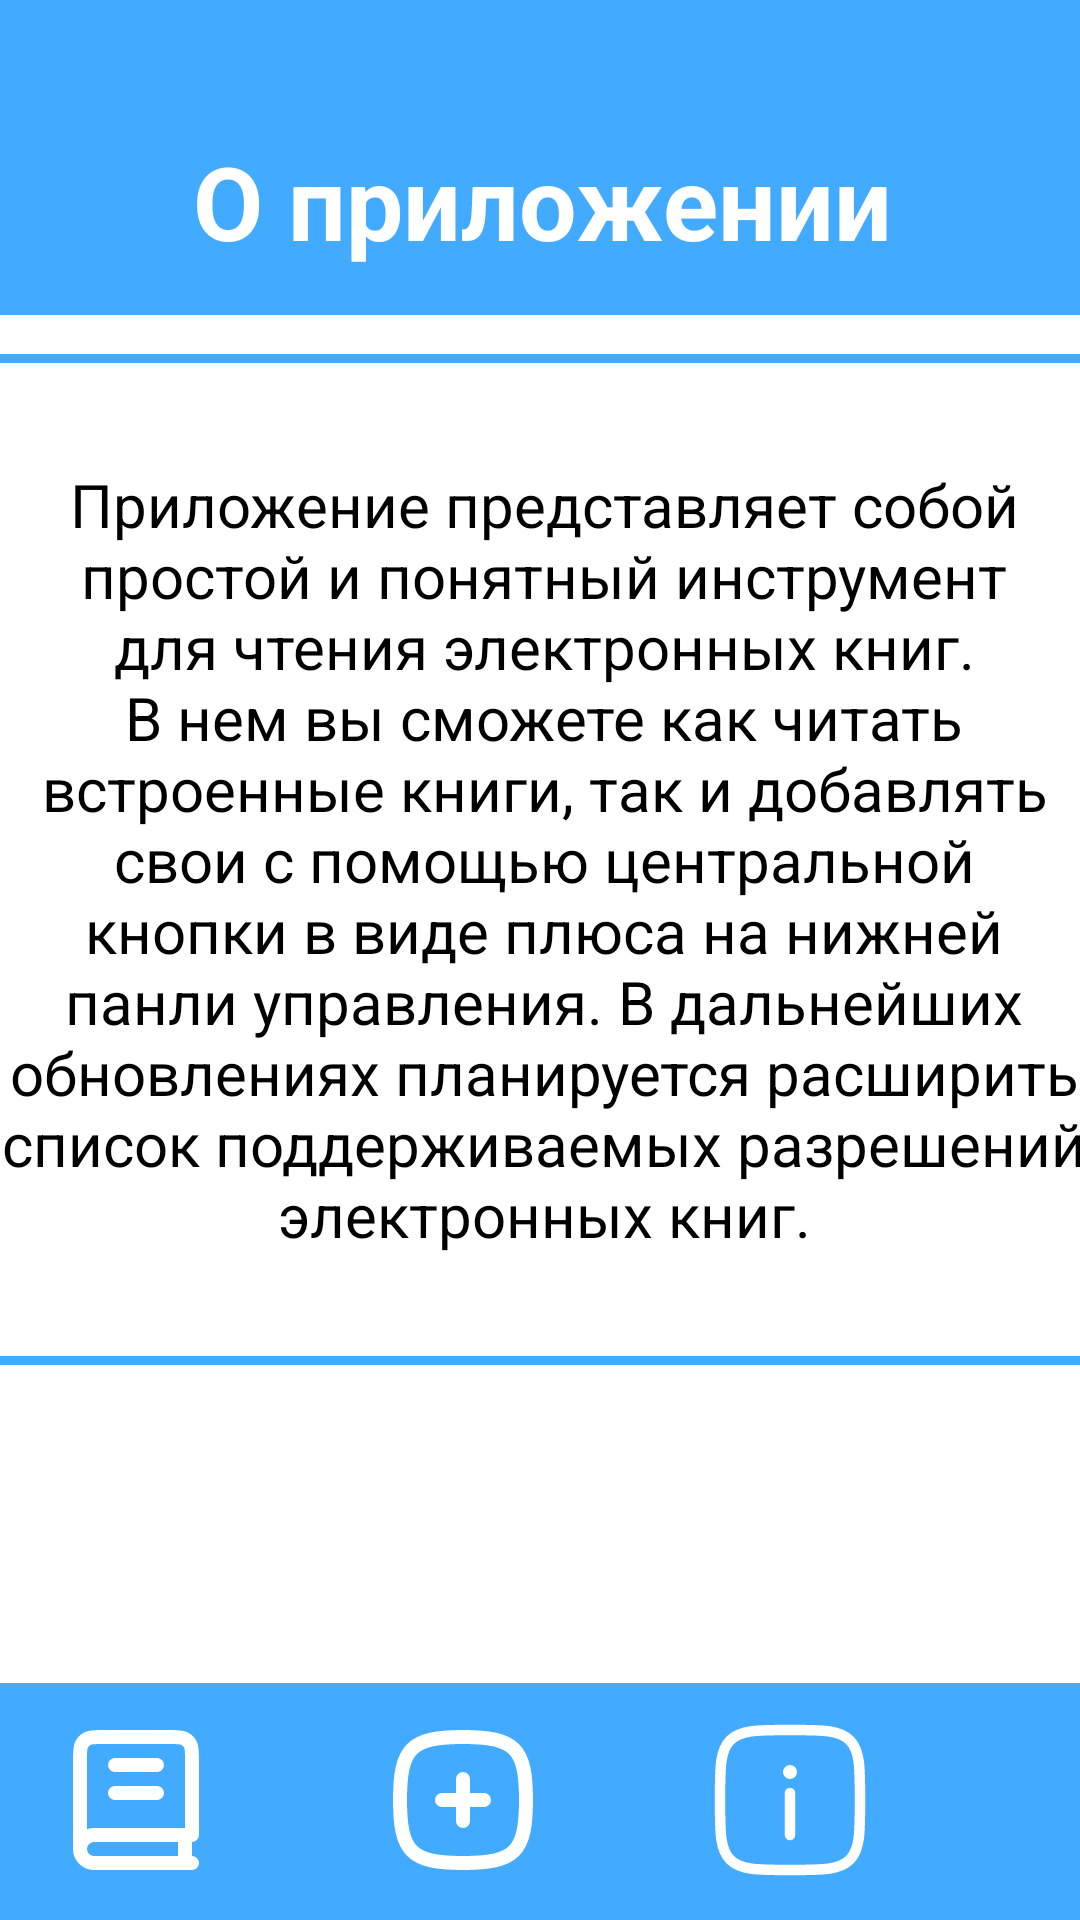

Icon bounding boxes for this 1080px×1920px phone screenshot, format (x1,y1,x2,y2):
book: (73,1730,199,1870)
info square: (714,1724,866,1876)
plus square: (393,1730,533,1870)
